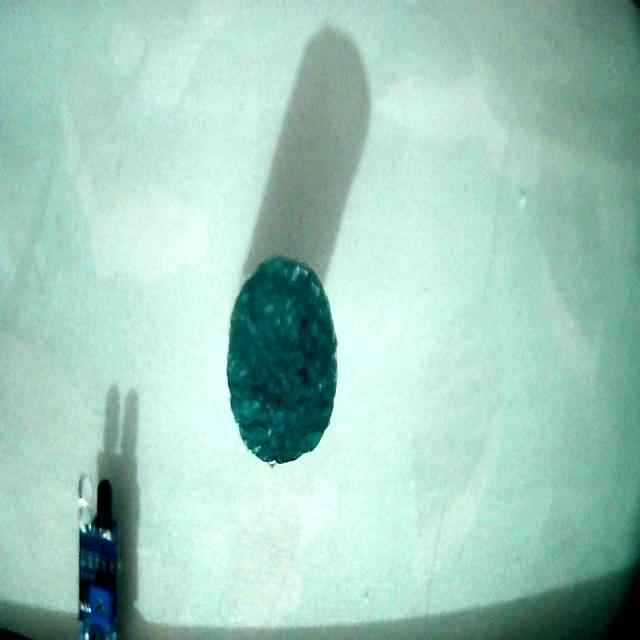green: (227, 258, 337, 464)
